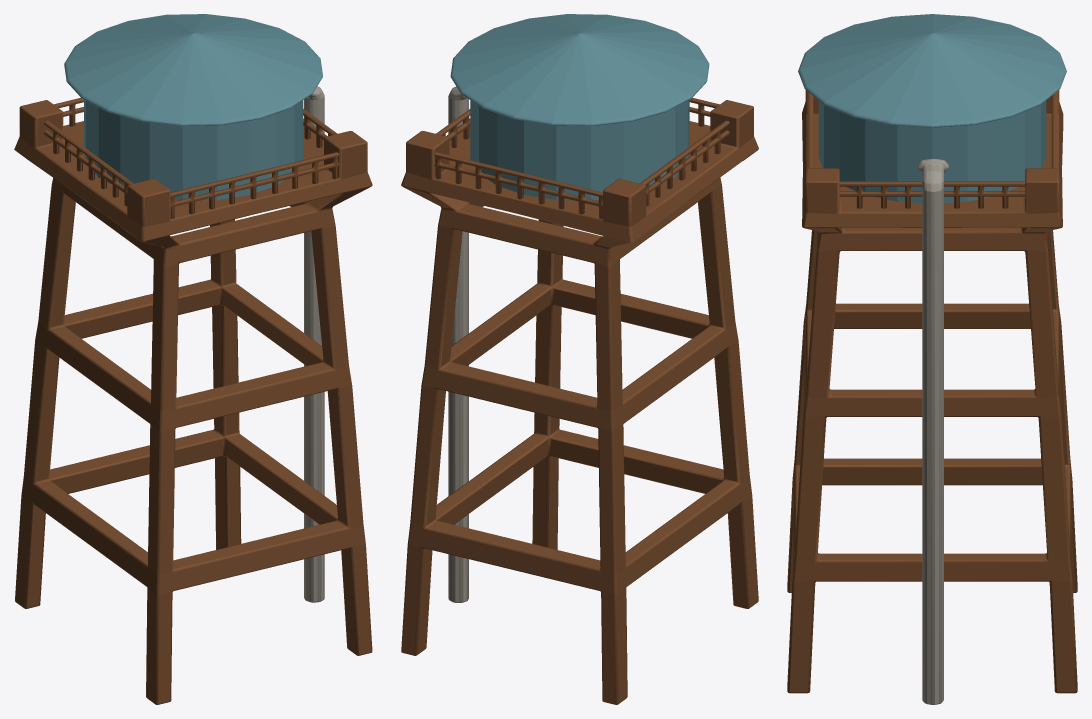
The model's file is farm_water_tower_01.glb.
3 views of the same model, side by side, from view 1: azimuth 30°, elevation 25°; view 2: azimuth 150°, elevation 25°; view 3: azimuth 270°, elevation 25° (orthographic). The views are drawn at different scales.
Visible parts, largest first — view 1: farm_water_tower_01; view 2: farm_water_tower_01; view 3: farm_water_tower_01.
Boxes of the visible parts, left/top/right/bottom form: farm_water_tower_01: left=14, top=14, right=372, bottom=704; farm_water_tower_01: left=401, top=14, right=758, bottom=704; farm_water_tower_01: left=787, top=14, right=1077, bottom=704.
Size of the model in its own units: 8.4 by 19.4 by 8.4.
